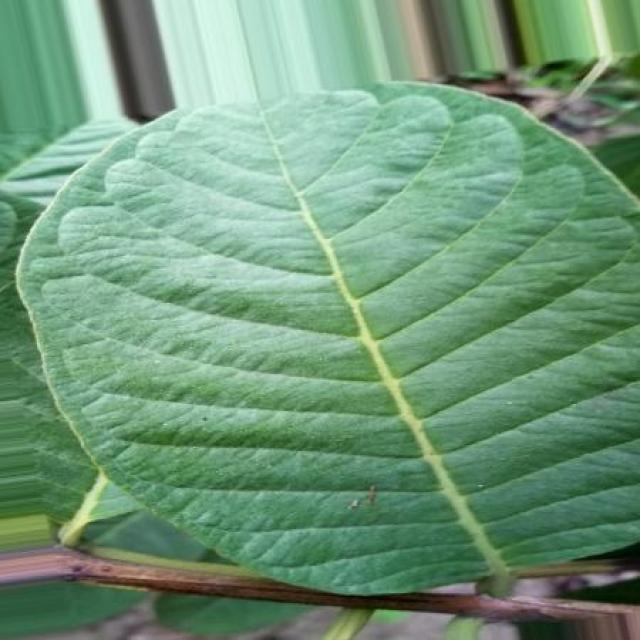Disease Free: (20, 84, 640, 594)
